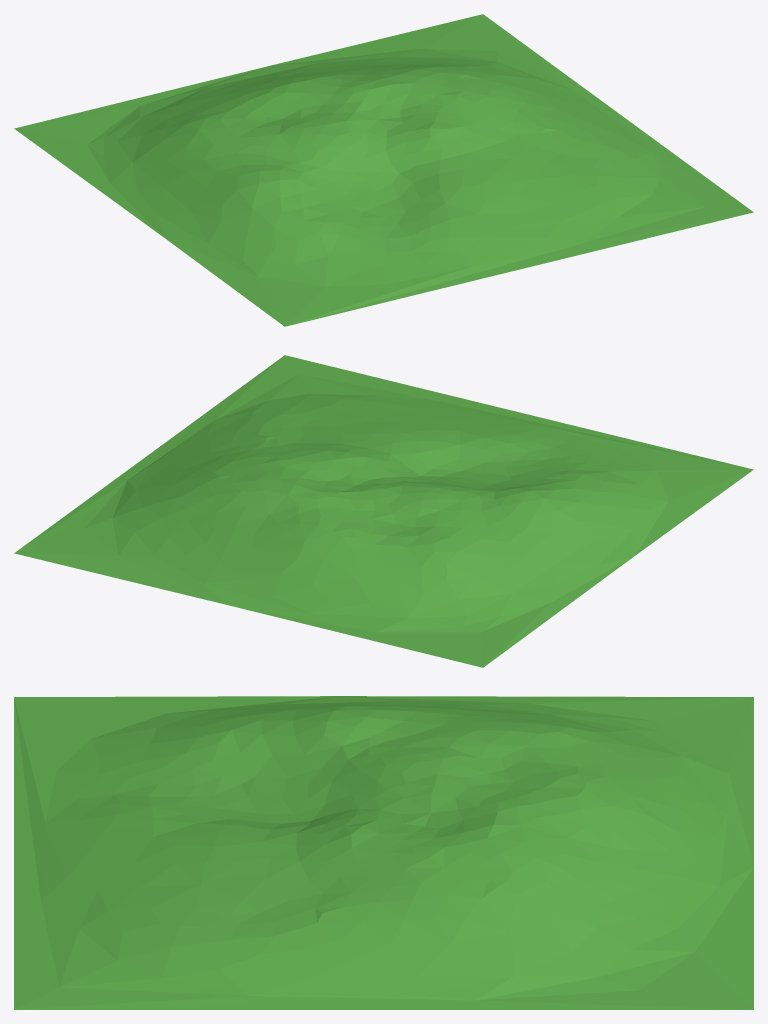
The model's file is hills2.obj.
The picture shows the model from 3 angles, top to bottom: view 1: azimuth 30°, elevation 25°; view 2: azimuth 150°, elevation 25°; view 3: azimuth 270°, elevation 25°; orthographic projection. The views are drawn at different scales.
Visible parts, largest first — view 1: hills02; view 2: hills02; view 3: hills02.
Boxes of the visible parts, x1,y1,x2,y2 form: hills02: [14, 14, 753, 326]; hills02: [14, 355, 753, 667]; hills02: [14, 696, 753, 1009].
Bounding box in the file's own units: 20 × 1.82 × 20.
Materials: 1 (1 with a texture image).
